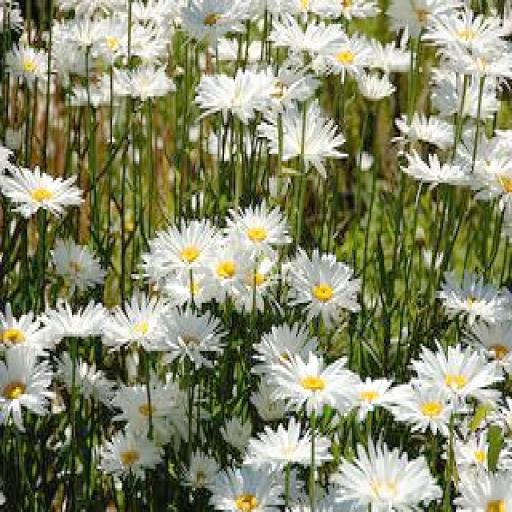daisy: (341, 437, 440, 512), (270, 351, 358, 413), (197, 67, 280, 118), (390, 380, 468, 430), (290, 260, 354, 320), (218, 459, 290, 512), (272, 108, 333, 168), (13, 164, 77, 221), (421, 346, 496, 392), (51, 301, 109, 358), (486, 118, 512, 243), (152, 223, 224, 267), (116, 380, 182, 428), (397, 154, 469, 195), (432, 5, 506, 43), (259, 421, 331, 459), (392, 108, 454, 152), (102, 430, 165, 471), (50, 243, 110, 286), (229, 204, 286, 248), (118, 68, 172, 104), (186, 450, 216, 483)
